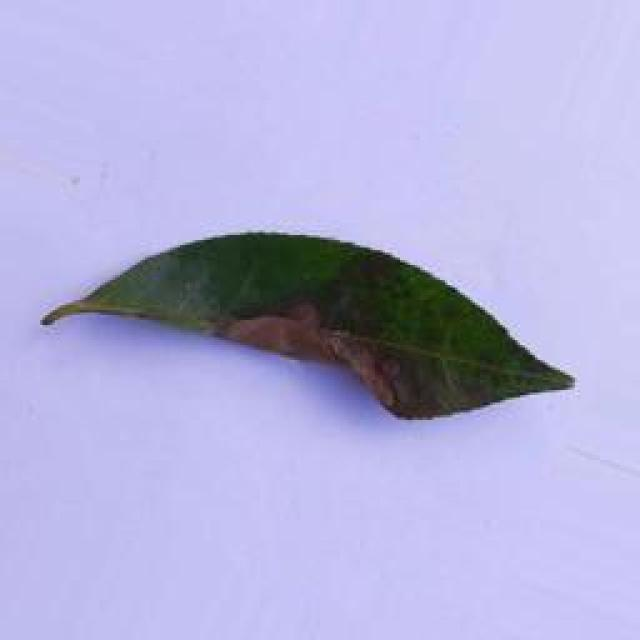Brown Blight: (31, 216, 592, 458)
